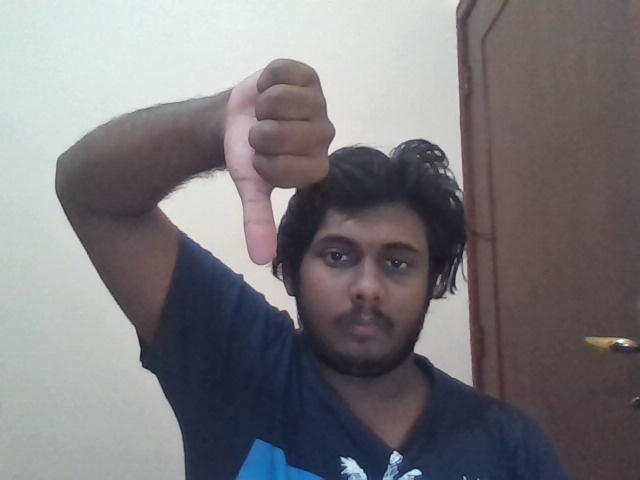thumbsdown: (224, 58, 335, 265)
